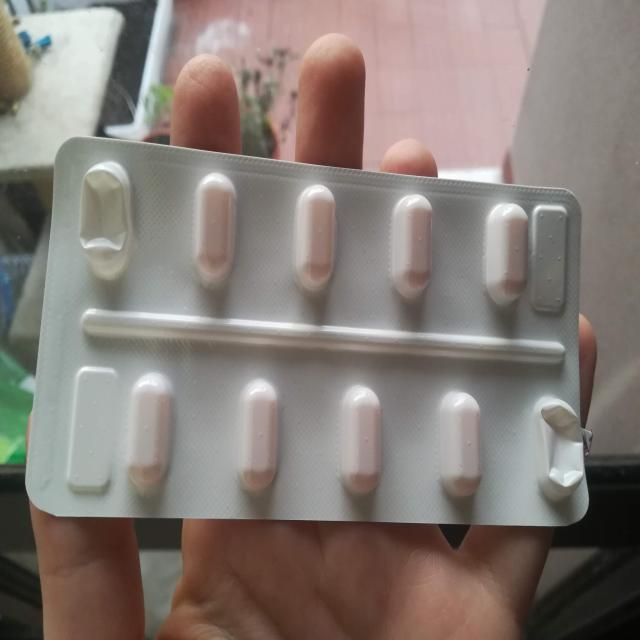Empty: (73, 152, 143, 286), (524, 396, 586, 513)
Pill: (119, 362, 182, 504), (228, 368, 294, 498), (337, 368, 391, 508), (436, 381, 490, 503), (482, 192, 533, 320), (287, 173, 341, 293), (185, 162, 238, 284), (388, 190, 439, 304)
